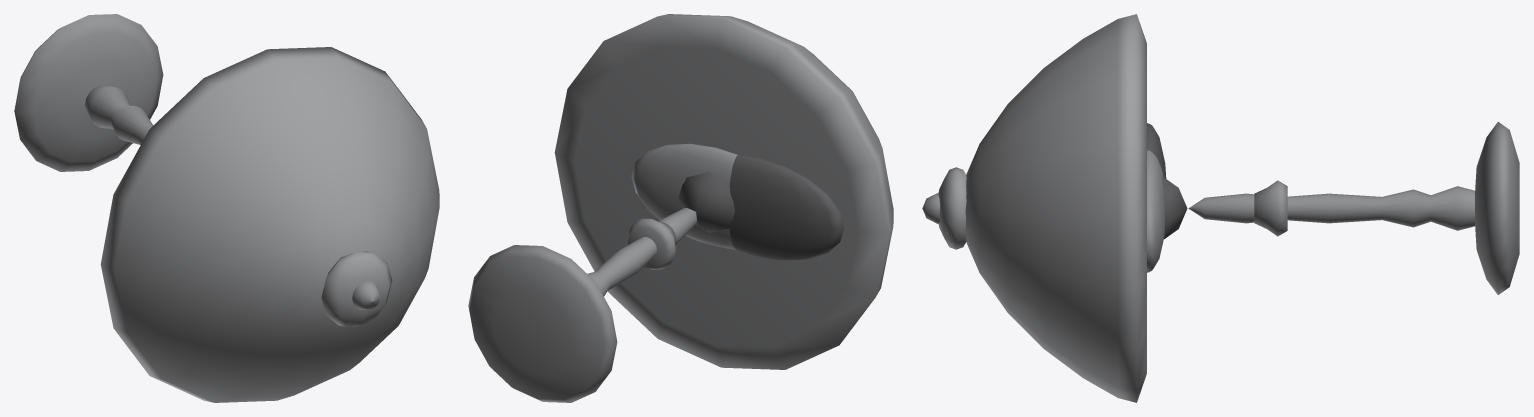
3 views of the same model, side by side, from view 1: azimuth 30°, elevation 25°; view 2: azimuth 150°, elevation 25°; view 3: azimuth 270°, elevation 25° (orthographic).
Size of the model in its own units: 0.5076 by 0.5076 by 0.7787.
